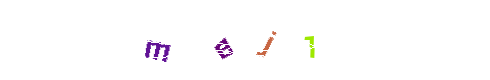1: (271, 0, 351, 80)
E: (195, 0, 275, 80)
J: (205, 0, 285, 80)
M: (143, 0, 223, 80)
